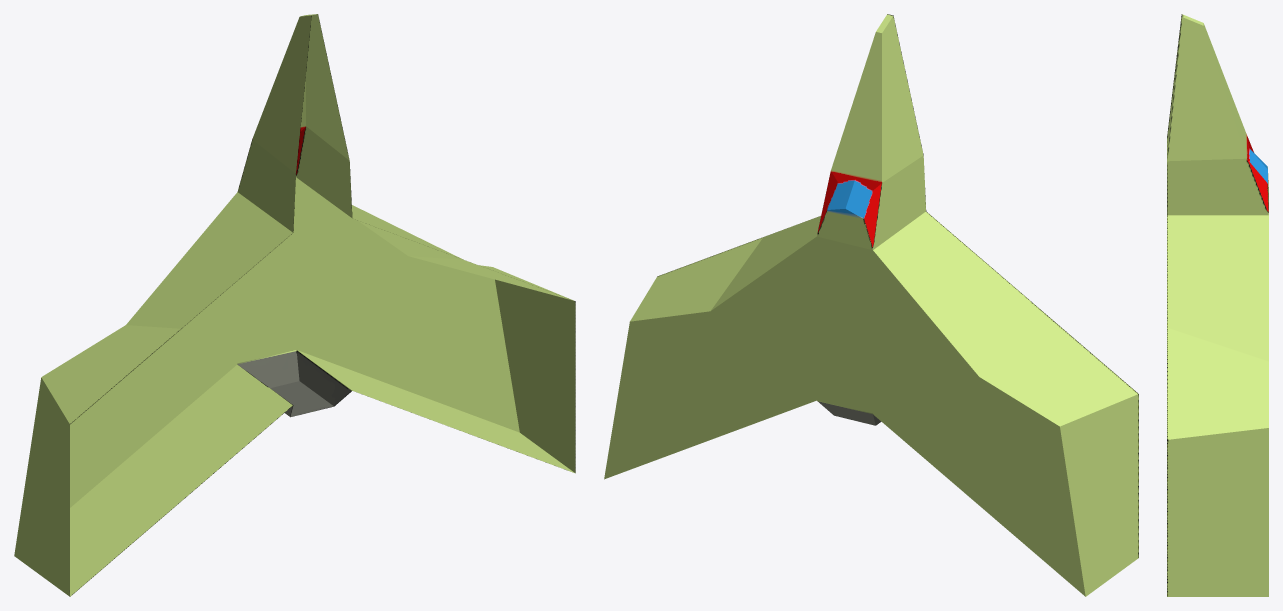
Rendered from ExportedBlenderFBXFile.fbx.
The picture shows the model from 3 angles, left to right: view 1: azimuth 30°, elevation 25°; view 2: azimuth 150°, elevation 25°; view 3: azimuth 270°, elevation 25°; orthographic projection. The views are drawn at different scales.
Visible parts, largest first — view 1: Cube; view 2: Cube; view 3: Cube.
Boxes of the visible parts, x1=… form: Cube: x1=14, y1=14, x2=575, y2=596; Cube: x1=604, y1=14, x2=1138, y2=596; Cube: x1=1167, y1=14, x2=1268, y2=596.
Bounding box in the file's own units: 2.06 × 2 × 0.3941.
